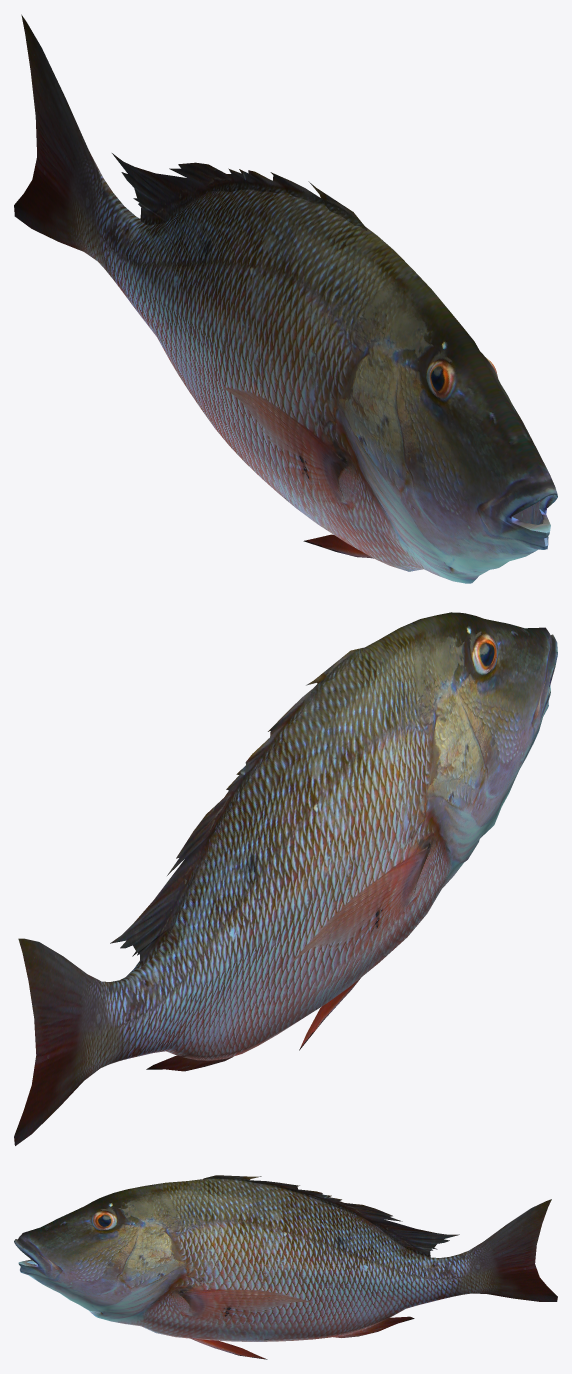
File: SimpleFish.fbx
3 renders of one model, top to bottom at view 1: azimuth 30°, elevation 25°; view 2: azimuth 150°, elevation 25°; view 3: azimuth 270°, elevation 25°, orthographic. The views are drawn at different scales.
Visible parts, largest first — view 1: Lod00; view 2: Lod00; view 3: Lod00.
Part boxes in pixels (x1,y1,x2,y2): Lod00: [14, 14, 557, 583]; Lod00: [14, 612, 557, 1145]; Lod00: [14, 1175, 557, 1359].
Size of what is drawn, in the model's own units: 1.23 by 4.47 by 11.96.
